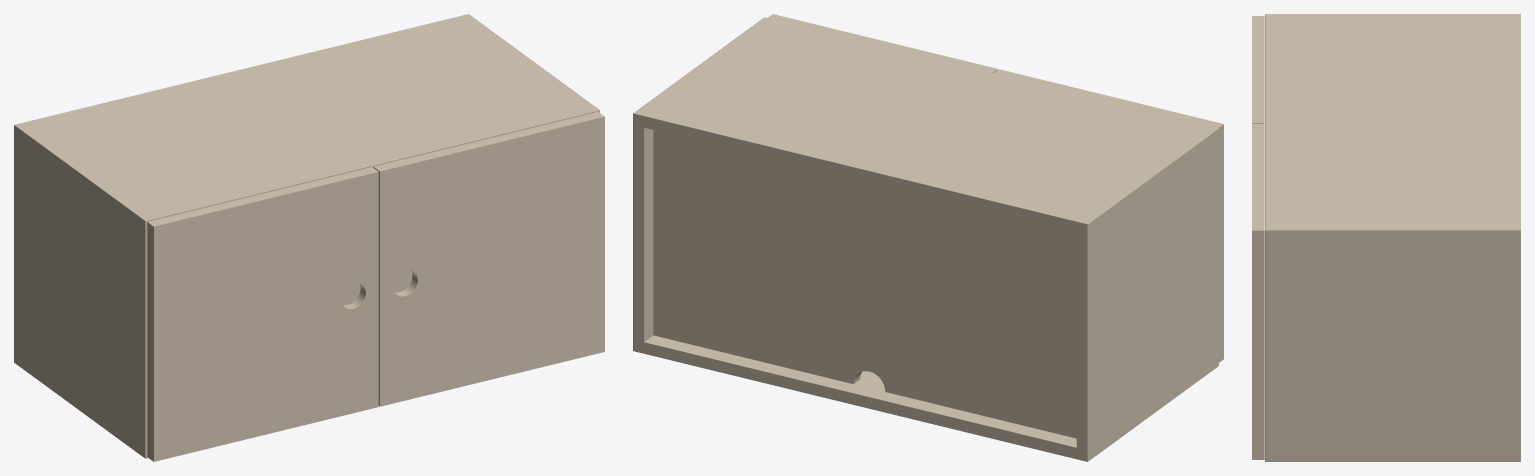
The model's file is MOD-2X1-D-B-AP-AR.glb.
3 renders of one model, left to right at view 1: azimuth 30°, elevation 25°; view 2: azimuth 150°, elevation 25°; view 3: azimuth 270°, elevation 25°, orthographic. The views are drawn at different scales.
Bounding box in the file's own units: 720 × 360 × 378.
